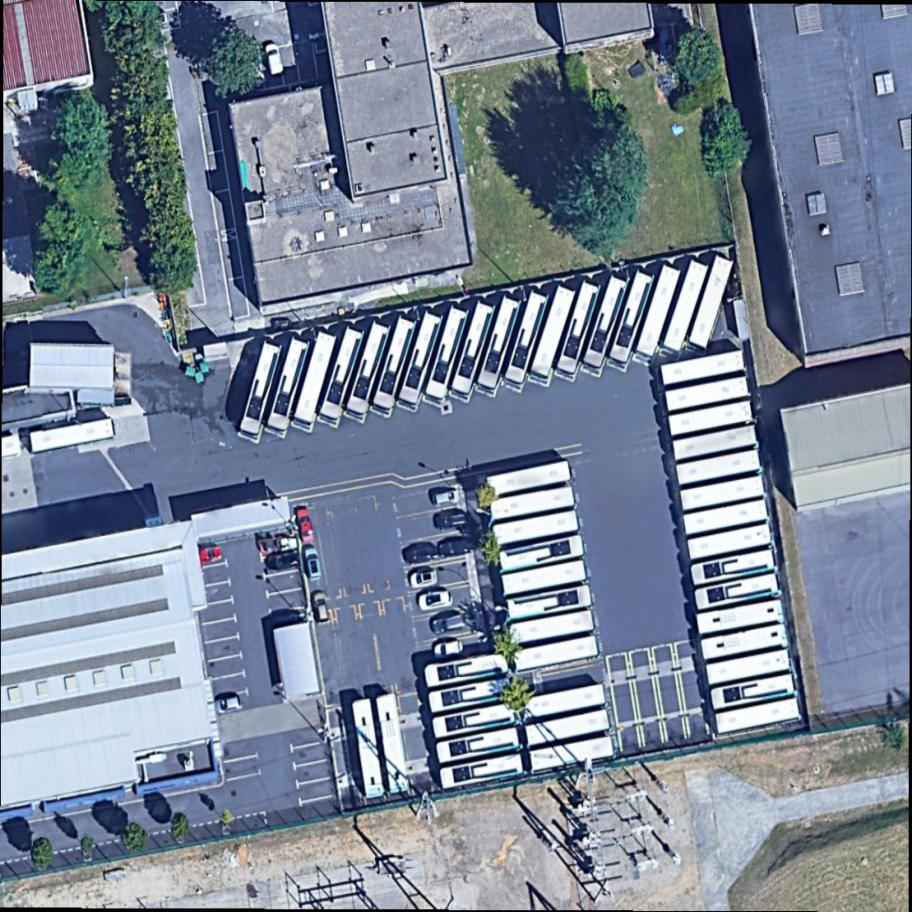large-vehicle: (370, 315, 419, 416), (687, 254, 738, 351), (581, 272, 630, 372), (397, 310, 446, 409), (554, 279, 602, 379), (318, 325, 366, 425), (634, 264, 682, 363), (529, 283, 577, 382), (661, 258, 711, 353), (607, 269, 655, 367), (449, 299, 496, 399), (265, 335, 311, 436), (238, 340, 284, 441), (503, 289, 550, 387), (345, 320, 391, 420), (424, 304, 470, 403), (291, 330, 337, 429), (476, 295, 522, 393), (694, 572, 783, 613), (700, 623, 790, 663), (708, 672, 797, 712), (502, 584, 593, 623), (690, 548, 778, 588), (496, 534, 586, 573), (512, 635, 601, 674), (376, 693, 410, 794), (687, 522, 775, 561), (519, 682, 607, 721), (490, 509, 580, 547), (352, 697, 385, 800), (664, 375, 753, 413), (714, 698, 803, 736), (28, 418, 117, 456), (499, 559, 588, 597), (705, 649, 793, 687), (485, 460, 573, 498), (696, 599, 786, 636), (676, 449, 763, 487), (524, 708, 611, 746), (668, 400, 757, 437), (529, 735, 615, 773), (683, 499, 771, 536), (660, 349, 748, 386), (672, 425, 760, 462), (679, 475, 767, 512), (431, 702, 516, 740), (438, 752, 525, 789), (435, 727, 521, 764), (488, 486, 576, 522), (507, 609, 595, 645), (424, 652, 509, 689), (427, 677, 513, 713), (0, 435, 22, 461)
small-vehicle: (401, 541, 439, 567), (436, 534, 475, 558), (417, 588, 454, 612), (265, 550, 301, 574), (430, 614, 466, 637), (433, 508, 467, 532), (263, 41, 285, 78), (295, 507, 315, 543), (312, 590, 331, 625), (432, 640, 464, 660), (407, 570, 440, 589), (215, 695, 245, 715), (433, 488, 462, 508), (305, 548, 322, 580), (196, 546, 224, 564)
